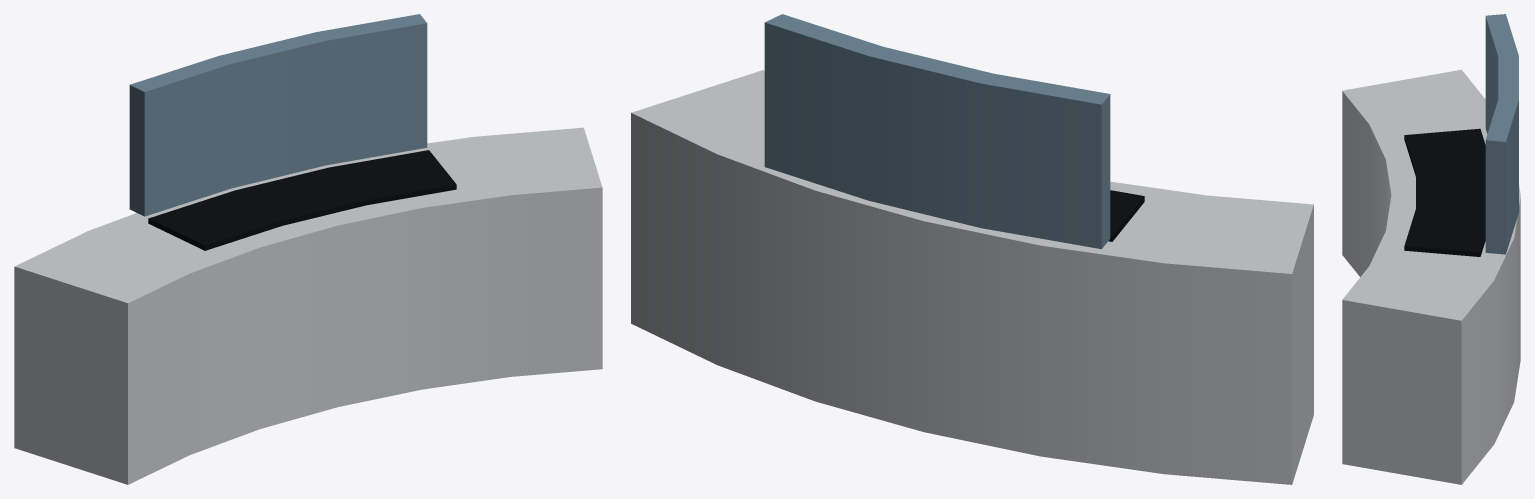
Rendered from curve_sink.glb.
3 views of the same model, side by side, from view 1: azimuth 30°, elevation 25°; view 2: azimuth 150°, elevation 25°; view 3: azimuth 270°, elevation 25° (orthographic). The views are drawn at different scales.
Parts seen in each view (by area): view 1: sw5e_int_curve_sink; view 2: sw5e_int_curve_sink; view 3: sw5e_int_curve_sink.
Boxes of the visible parts, x1,y1,x2,y2 form: sw5e_int_curve_sink: (14, 14, 602, 484); sw5e_int_curve_sink: (631, 14, 1313, 484); sw5e_int_curve_sink: (1342, 14, 1520, 484).
Size of the model in its own units: 2.3 by 1.2 by 0.6903.
